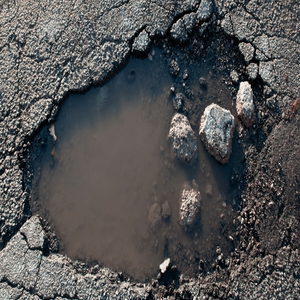pothole: (15, 10, 279, 289)
